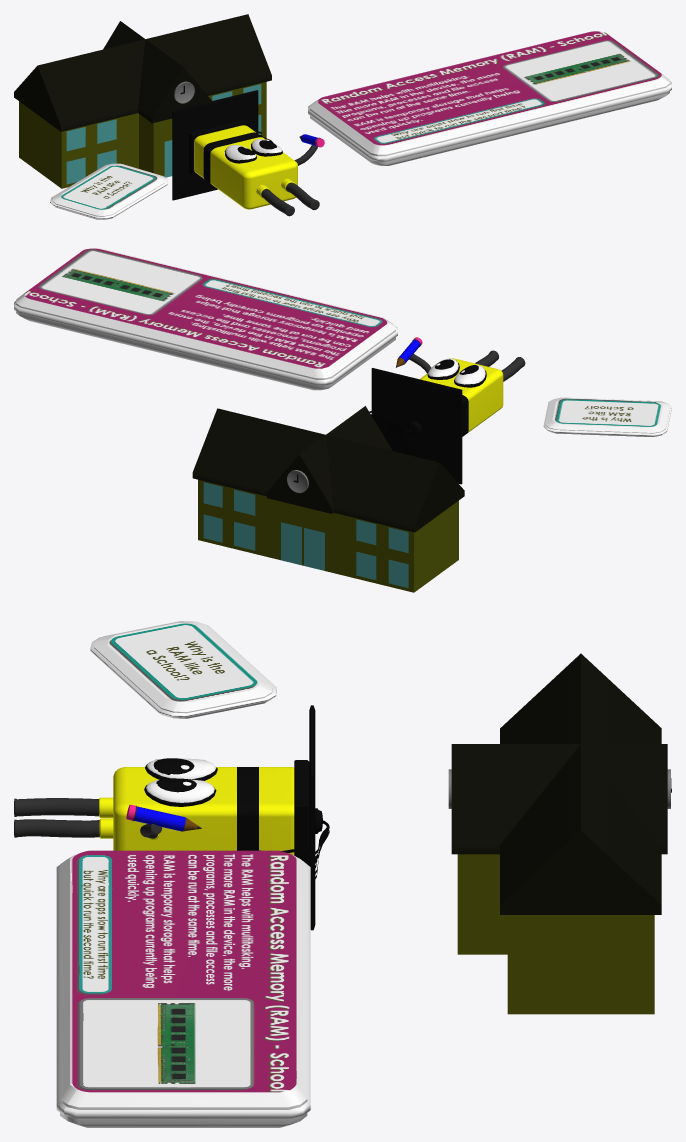
The model's file is combined_ram.obj.
3 renders of one model, top to bottom at view 1: azimuth 30°, elevation 25°; view 2: azimuth 150°, elevation 25°; view 3: azimuth 270°, elevation 25°, orthographic. The views are drawn at different scales.
Visible parts, largest first — view 1: mod_school, RAM1, char_6, RAM2; view 2: mod_school, RAM1, char_6, RAM2; view 3: RAM1, mod_school, char_6, RAM2.
Part boxes in pixels (x1=…): mod_school: x1=14, y1=14, x2=271, y2=188; RAM1: x1=308, y1=31, x2=671, y2=165; char_6: x1=172, y1=90, x2=324, y2=216; RAM2: x1=50, y1=163, x2=167, y2=219; mod_school: x1=192, y1=406, x2=464, y2=592; RAM1: x1=14, y1=248, x2=397, y2=390; char_6: x1=369, y1=337, x2=525, y2=484; RAM2: x1=543, y1=397, x2=671, y2=436; RAM1: x1=56, y1=850, x2=310, y2=1127; mod_school: x1=448, y1=653, x2=671, y2=1014; char_6: x1=14, y1=705, x2=329, y2=930; RAM2: x1=90, y1=621, x2=276, y2=718.
Bounding box in the file's own units: 15.42 × 2.72 × 8.7.
Materials: 15 (2 with a texture image).
